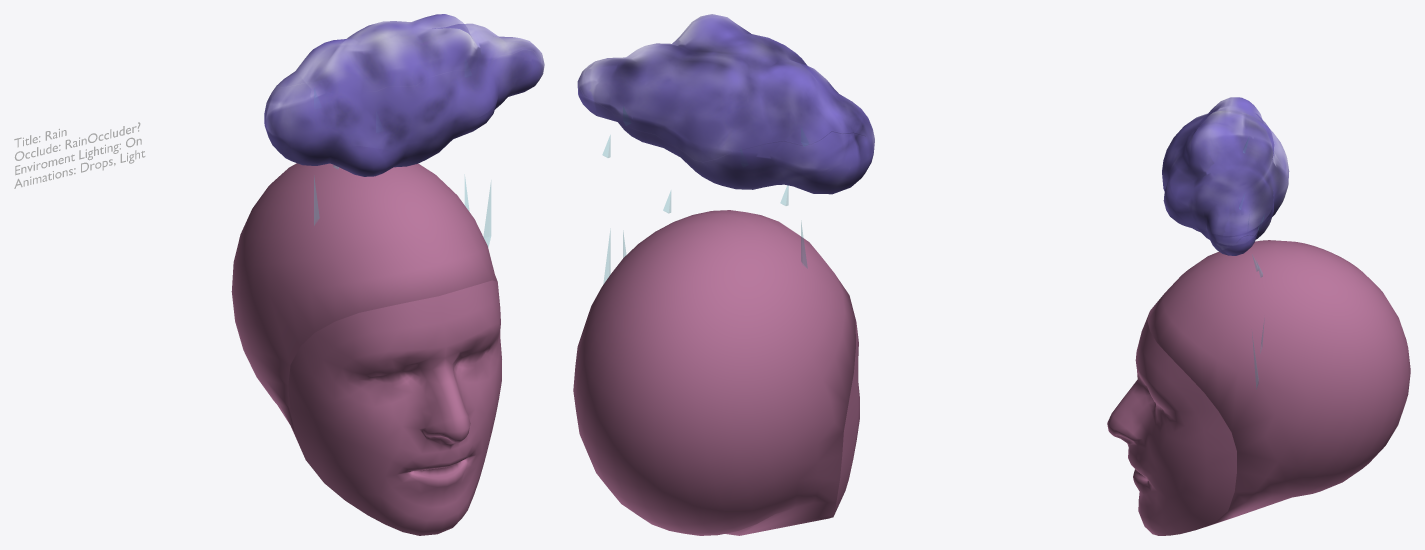
File: Rain2.glb
3 views of the same model, side by side, from view 1: azimuth 30°, elevation 25°; view 2: azimuth 150°, elevation 25°; view 3: azimuth 270°, elevation 25° (orthographic). The views are drawn at different scales.
Visible parts, largest first — view 1: OccluderFace, OccluderHead, RainCloud, _Rain; view 2: OccluderHead, RainCloud, OccluderFace, RainDrops; view 3: OccluderHead, OccluderFace, RainCloud.
Boxes of the visible parts, left/top/right/bottom form: OccluderFace: left=288, top=280, right=501, bottom=535; OccluderHead: left=231, top=163, right=497, bottom=454; RainCloud: left=264, top=14, right=544, bottom=176; _Rain: left=14, top=122, right=145, bottom=188; OccluderHead: left=573, top=210, right=855, bottom=535; RainCloud: left=577, top=14, right=874, bottom=194; OccluderFace: left=834, top=313, right=859, bottom=514; RainDrops: left=602, top=107, right=808, bottom=283; OccluderHead: left=1147, top=240, right=1410, bottom=528; OccluderFace: left=1107, top=312, right=1236, bottom=535; RainCloud: left=1162, top=97, right=1289, bottom=255.
Size of the model in its own units: 38.46 by 35.56 by 23.41.
3 materials, 1 textured.
